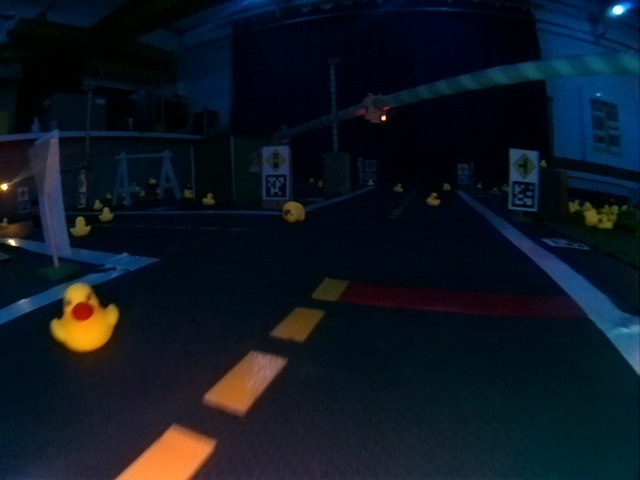Duckie: (51, 283, 119, 351), (282, 202, 304, 222), (71, 218, 88, 235), (100, 207, 114, 220), (428, 192, 439, 205), (203, 193, 213, 202)
Intersection sign: (512, 153, 536, 178)
QR code: (544, 234, 590, 250), (511, 180, 535, 209), (266, 175, 286, 197)
Signal sign: (265, 149, 286, 171)
Traffic light: (363, 94, 389, 123)
